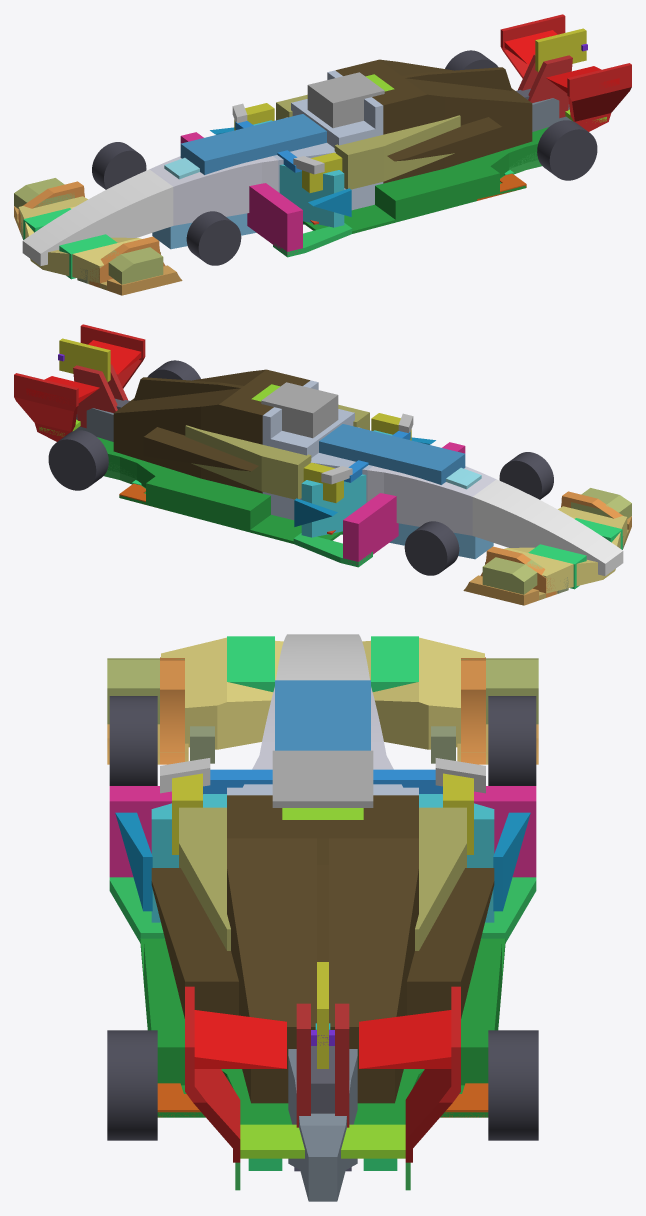
File: BoxCar.gltf
3 renders of one model, top to bottom at view 1: azimuth 30°, elevation 25°; view 2: azimuth 150°, elevation 25°; view 3: azimuth 270°, elevation 25°, orthographic. The views are drawn at different scales.
Visible parts, largest first — view 1: RV_EC, RV_FLOOR_BODY, RV_NOSE, RV_CH_FRONT, RV_COCKPIT_DRIVER_APPROX, RV_BW_APERTURE, RV_RWEP_BODY, RV_CH_MID, RV_FLOOR_BRACE, RV_HALO_APPROX, RV_RWH_DRUM_APPROX_L, RV_FW_PROFILES (+18 smaller); view 2: RV_EC, RV_FLOOR_BODY, RV_NOSE, RV_CH_FRONT, RV_COCKPIT_DRIVER_APPROX, RV_BW_APERTURE, RV_RWEP_BODY, RV_CH_MID, RV_FLOOR_BRACE, RV_HALO_APPROX, RV_RWH_DRUM_APPROX_R, RV_FW_PROFILES (+18 smaller); view 3: RV_EC, RV_FW_PROFILES, RV_FLOOR_BODY, RV_BW_APERTURE, RV_RW_PROFILES, RV_RWEP_BODY, RV_COCKPIT_DRIVER_APPROX, RV_HALO_APPROX, RV_FLOOR_BRACE, RV_RWH_DRUM_APPROX_R, RV_RWH_DRUM_APPROX_L, RV_FWEP_BODY (+22 smaller).
Part boxes in pixels (x1,y1,x2,y2): RV_EC: (335, 59, 532, 183); RV_FLOOR_BODY: (303, 127, 548, 233); RV_NOSE: (22, 169, 173, 265); RV_CH_FRONT: (149, 156, 278, 225); RV_COCKPIT_DRIVER_APPROX: (180, 114, 326, 174); RV_BW_APERTURE: (276, 94, 460, 189); RV_RWEP_BODY: (500, 14, 631, 131); RV_CH_MID: (273, 70, 383, 210); RV_FLOOR_BRACE: (180, 132, 302, 254); RV_HALO_APPROX: (307, 72, 384, 128); RV_RWH_DRUM_APPROX_L: (537, 120, 597, 180); RV_FW_PROFILES: (18, 196, 141, 283); RV_EC: (113, 369, 310, 493); RV_FLOOR_BODY: (97, 437, 342, 543); RV_NOSE: (472, 479, 623, 575); RV_CH_FRONT: (367, 466, 496, 535); RV_COCKPIT_DRIVER_APPROX: (319, 424, 465, 484); RV_BW_APERTURE: (185, 404, 369, 499); RV_RWEP_BODY: (14, 324, 145, 441); RV_CH_MID: (262, 380, 372, 520); RV_FLOOR_BRACE: (343, 442, 465, 564); RV_HALO_APPROX: (261, 382, 338, 438); RV_RWH_DRUM_APPROX_R: (48, 430, 108, 490); RV_FW_PROFILES: (504, 506, 627, 593); RV_EC: (151, 795, 494, 1103); RV_FW_PROFILES: (161, 637, 484, 749); RV_FLOOR_BODY: (140, 938, 505, 1124); RV_BW_APERTURE: (179, 807, 466, 950); RV_RW_PROFILES: (194, 1010, 451, 1068); RV_RWEP_BODY: (185, 986, 460, 1162); RV_COCKPIT_DRIVER_APPROX: (275, 680, 370, 750); RV_HALO_APPROX: (272, 750, 373, 807); RV_FLOOR_BRACE: (109, 786, 536, 877); RV_RWH_DRUM_APPROX_R: (488, 1030, 538, 1140); RV_RWH_DRUM_APPROX_L: (107, 1030, 157, 1140); RV_FWEP_BODY: (160, 657, 485, 764).
Size of the model in its own units: 5.46 by 1.01 by 1.8.
